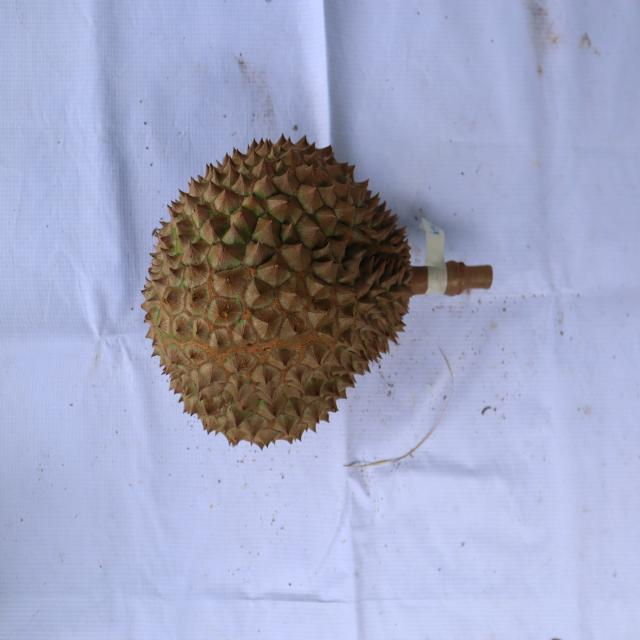mature: (140, 133, 414, 452)
